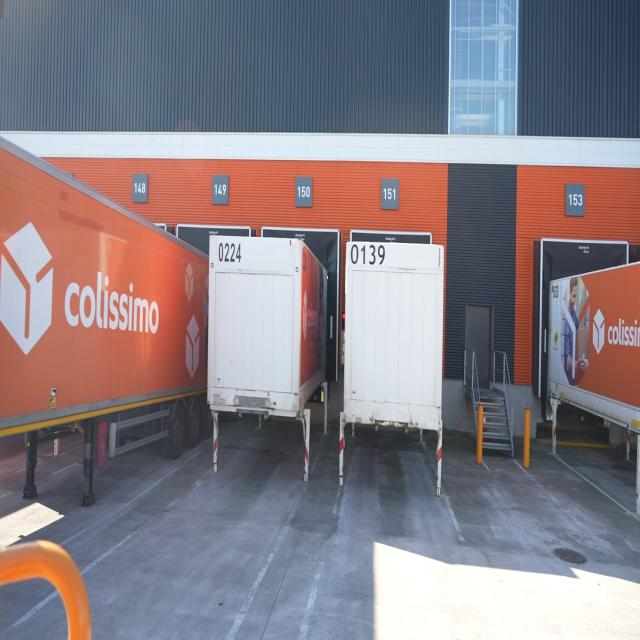Code: (349, 244, 390, 269), (214, 237, 247, 268)
